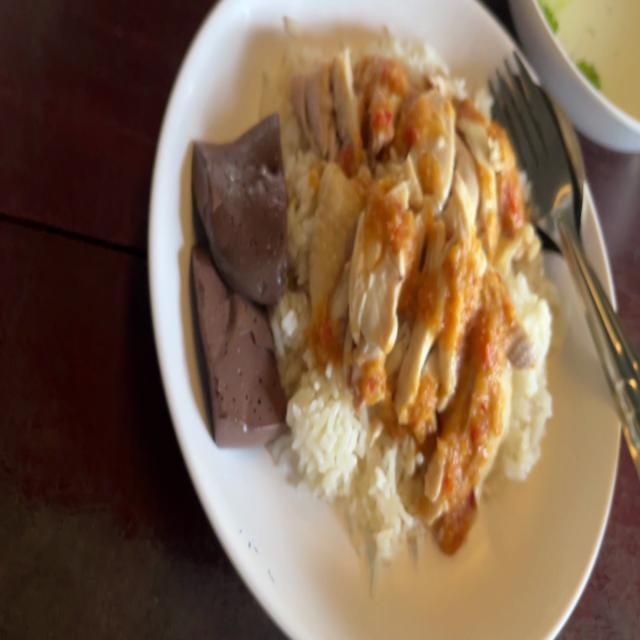boiled_chicken: (292, 55, 510, 485)
boiled_chicken_blood_jelly: (190, 245, 286, 457), (188, 108, 287, 308)
chicken_rice: (196, 31, 560, 586)
